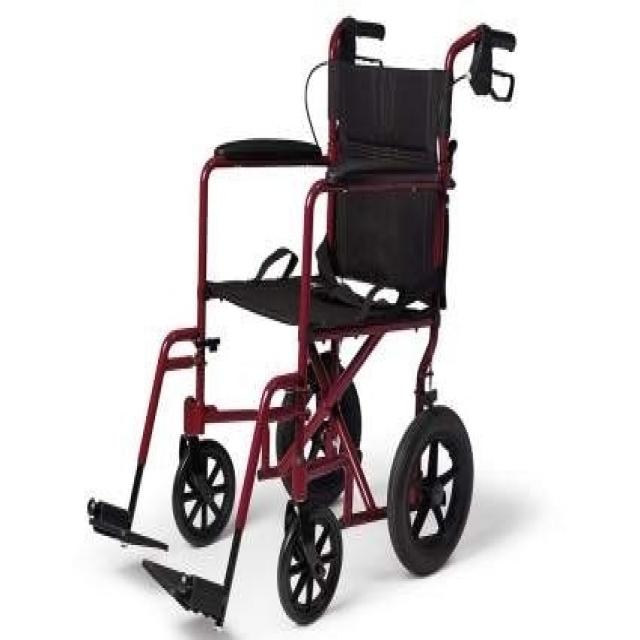wheelchair: (77, 0, 528, 640)
